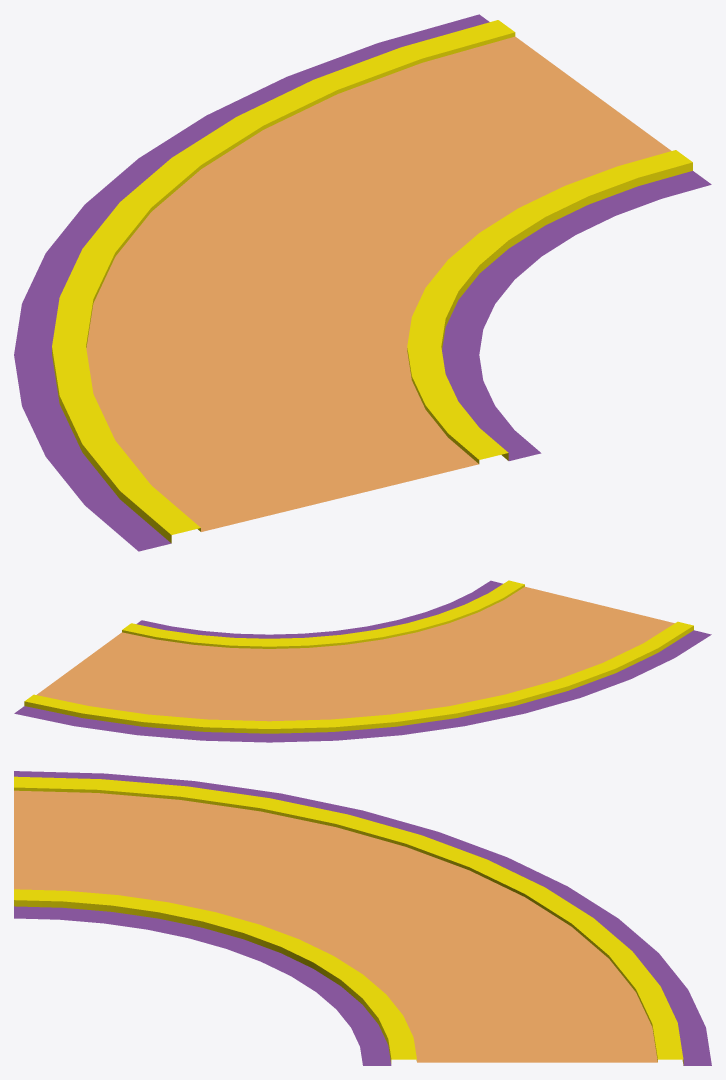
The model's file is roadCornerLarge.glb.
3 views of the same model, one above another, from view 1: azimuth 30°, elevation 25°; view 2: azimuth 150°, elevation 25°; view 3: azimuth 270°, elevation 25° (orthographic). The views are drawn at different scales.
Parts seen in each view (by area): view 1: roadCornerLarge(Clone); view 2: roadCornerLarge(Clone); view 3: roadCornerLarge(Clone).
Boxes of the visible parts, box(x1,y1,x2,y2) form: roadCornerLarge(Clone): box(14, 14, 711, 551); roadCornerLarge(Clone): box(14, 580, 711, 742); roadCornerLarge(Clone): box(14, 771, 711, 1065).
Bounding box in the file's own units: 2 × 0.02 × 2.
